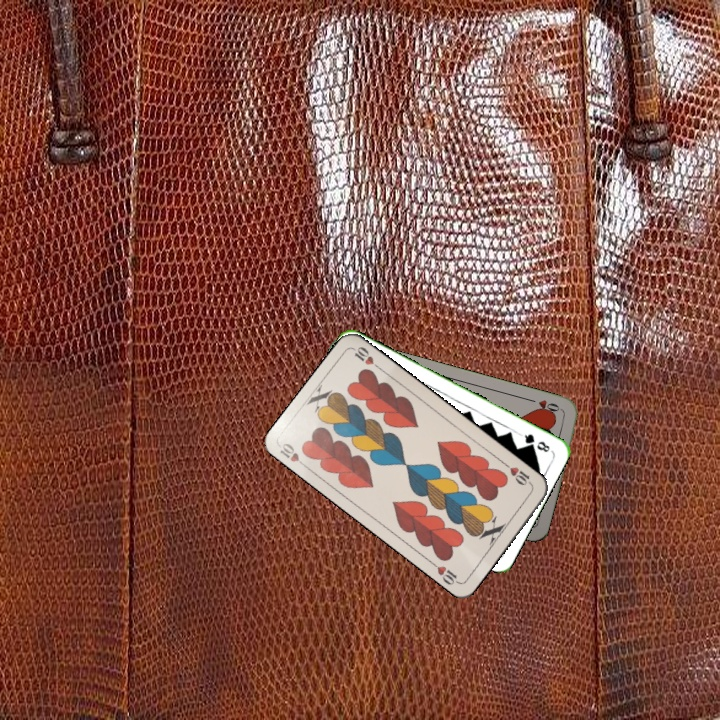G8: (520, 429, 553, 455)
H10: (276, 439, 311, 471), (500, 459, 535, 489)
HO: (525, 395, 565, 417)
